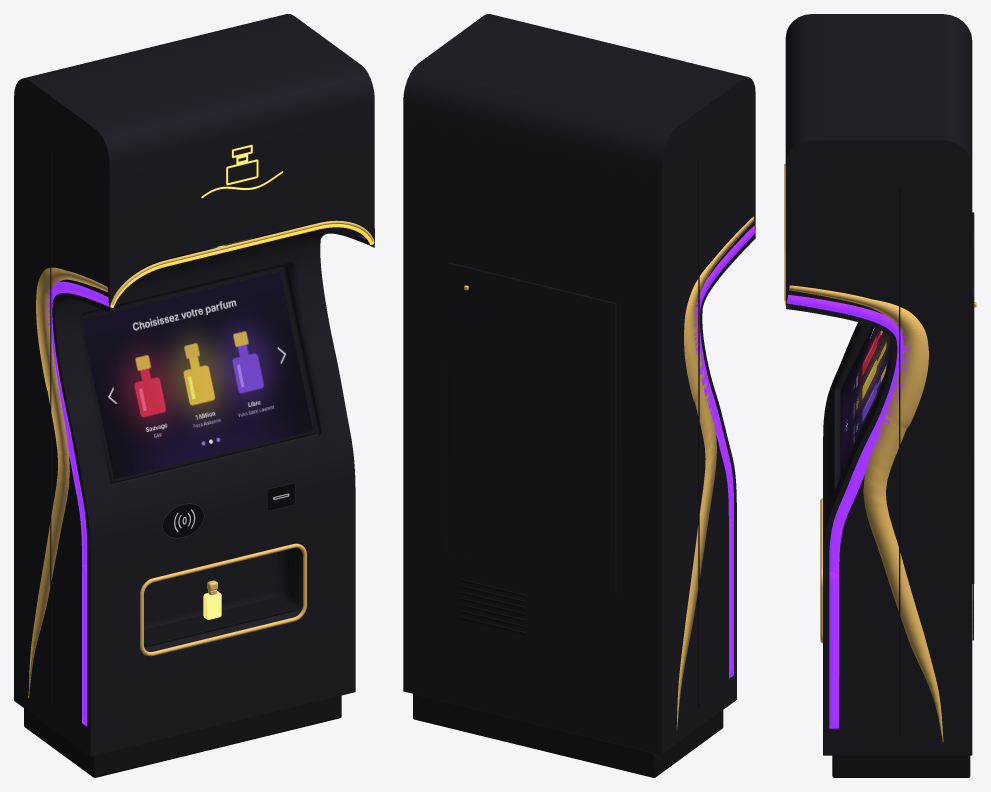
The model's file is borne.glb.
3 views of the same model, side by side, from view 1: azimuth 30°, elevation 25°; view 2: azimuth 150°, elevation 25°; view 3: azimuth 270°, elevation 25° (orthographic). The views are drawn at different scales.
Parts seen in each view (by area): view 1: Corps, Écran_UI, Socle, Ruban_or_gauche, Ruban_violet_gauche, Écran_fond, Niche_tablette, Niche_cadre_or, NFC, Joint_flanc_-1, Capot_filet_or, LED_capot_or (+2 smaller); view 2: Corps, Panneau_maintenance, Socle, Ruban_or_gauche, Ruban_violet_gauche, Joint_flanc_-1; view 3: Corps, Ruban_or_droite, Ruban_violet_droite, Écran_UI, Socle, Panneau_maintenance, Joint_flanc_1, Niche_cadre_or.
Part boxes in pixels (x1=…): Corps: x1=14, y1=14, x2=374, y2=756; Écran_UI: x1=82, y1=272, x2=312, y2=479; Socle: x1=24, y1=695, x2=341, y2=777; Ruban_or_gauche: x1=28, y1=267, x2=107, y2=697; Ruban_violet_gauche: x1=46, y1=281, x2=108, y2=726; Écran_fond: x1=82, y1=267, x2=316, y2=483; Niche_tablette: x1=144, y1=597, x2=295, y2=646; Niche_cadre_or: x1=140, y1=543, x2=306, y2=655; NFC: x1=162, y1=503, x2=204, y2=538; Joint_flanc_-1: x1=50, y1=145, x2=51, y2=707; Capot_filet_or: x1=110, y1=220, x2=374, y2=305; LED_capot_or: x1=110, y1=224, x2=374, y2=307; Corps: x1=403, y1=14, x2=755, y2=754; Panneau_maintenance: x1=447, y1=262, x2=616, y2=594; Socle: x1=413, y1=694, x2=723, y2=777; Ruban_or_gauche: x1=676, y1=216, x2=754, y2=730; Ruban_violet_gauche: x1=694, y1=225, x2=755, y2=678; Joint_flanc_-1: x1=698, y1=158, x2=699, y2=707; Corps: x1=785, y1=14, x2=972, y2=755; Ruban_or_droite: x1=789, y1=285, x2=943, y2=741; Ruban_violet_droite: x1=786, y1=295, x2=908, y2=728; Écran_UI: x1=841, y1=326, x2=891, y2=473; Socle: x1=832, y1=755, x2=970, y2=777; Panneau_maintenance: x1=972, y1=212, x2=974, y2=584; Joint_flanc_1: x1=899, y1=187, x2=900, y2=735; Niche_cadre_or: x1=820, y1=498, x2=822, y2=643.
Size of what is drawn, in the model's own units: 0.8038 by 1.9 by 0.5162.
12 materials, 5 textured.
